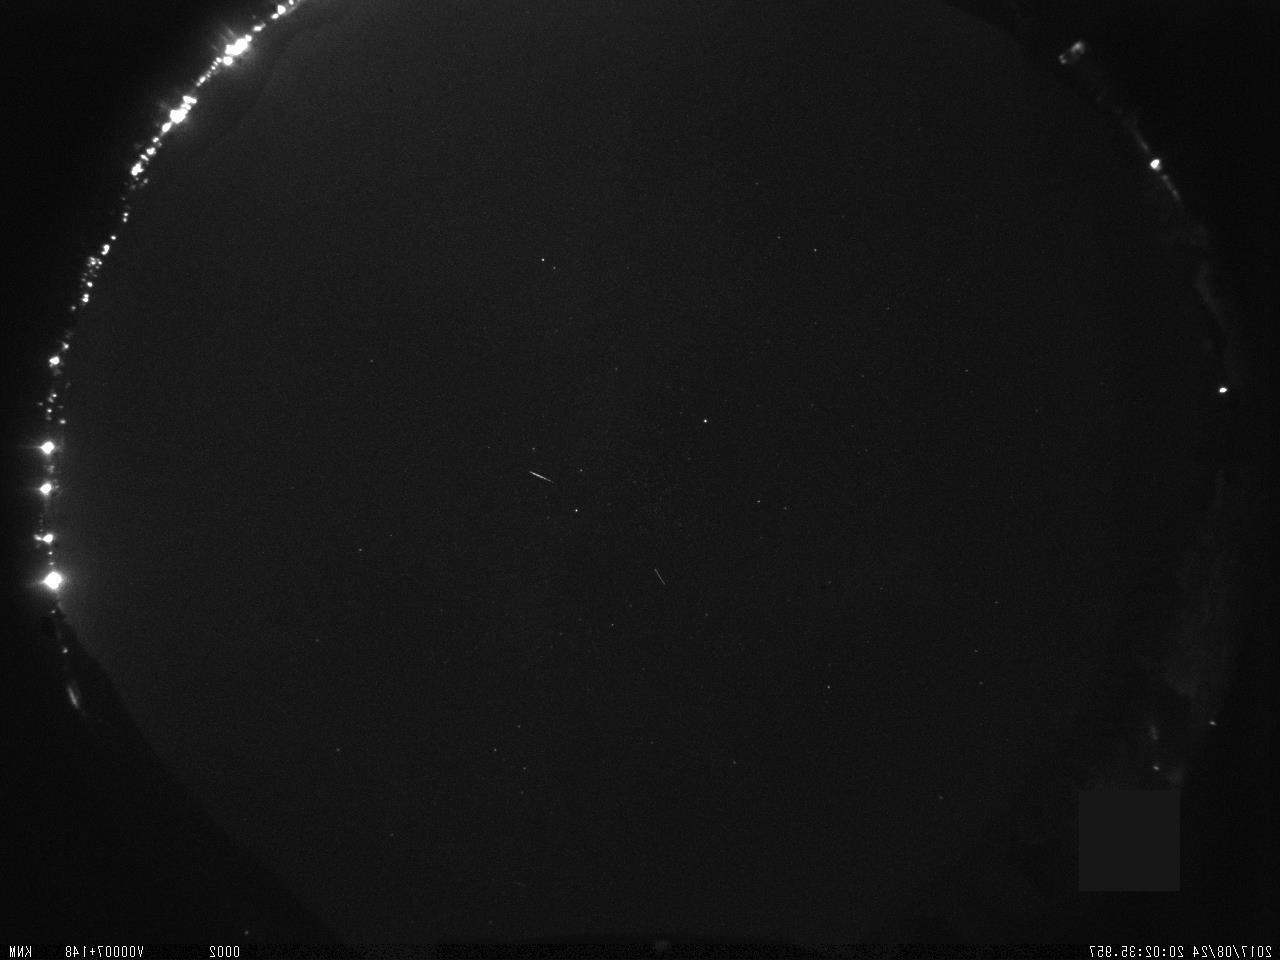meteor: (635, 555, 684, 593), (516, 460, 567, 494)
